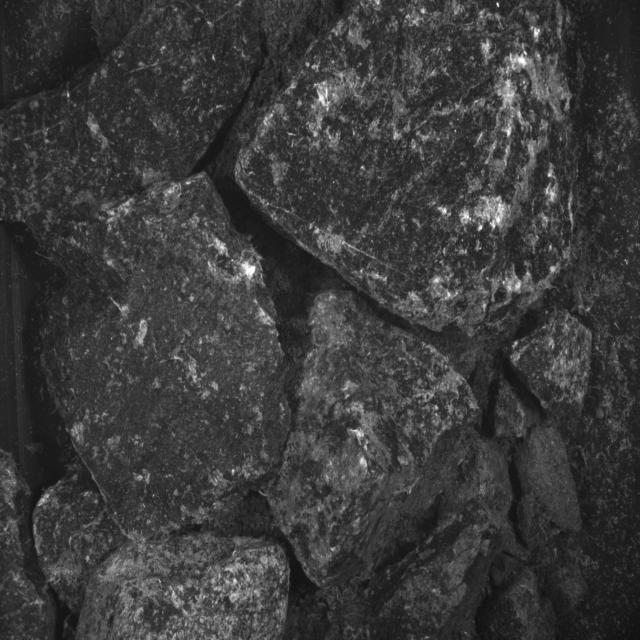Stones: (237, 3, 576, 333), (44, 173, 291, 539), (1, 1, 262, 251), (269, 292, 480, 586), (77, 534, 291, 640), (1, 1, 146, 109), (34, 465, 126, 615), (1, 450, 57, 640), (511, 311, 592, 419), (495, 381, 527, 439)
